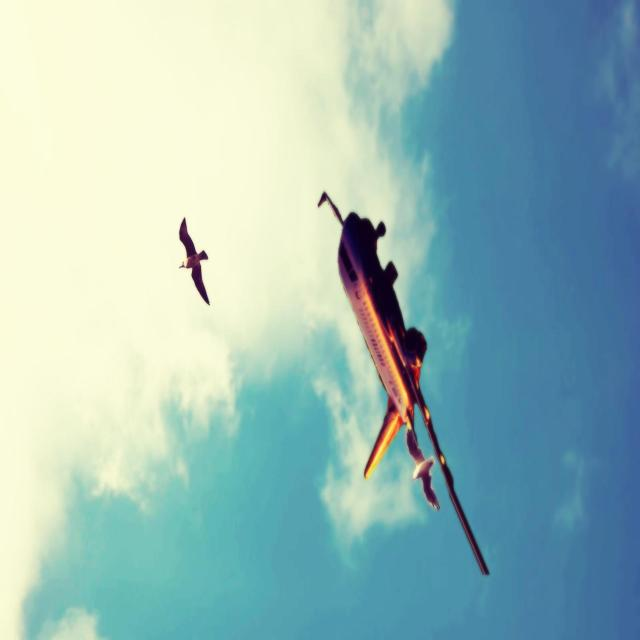airplane: (316, 189, 489, 575)
